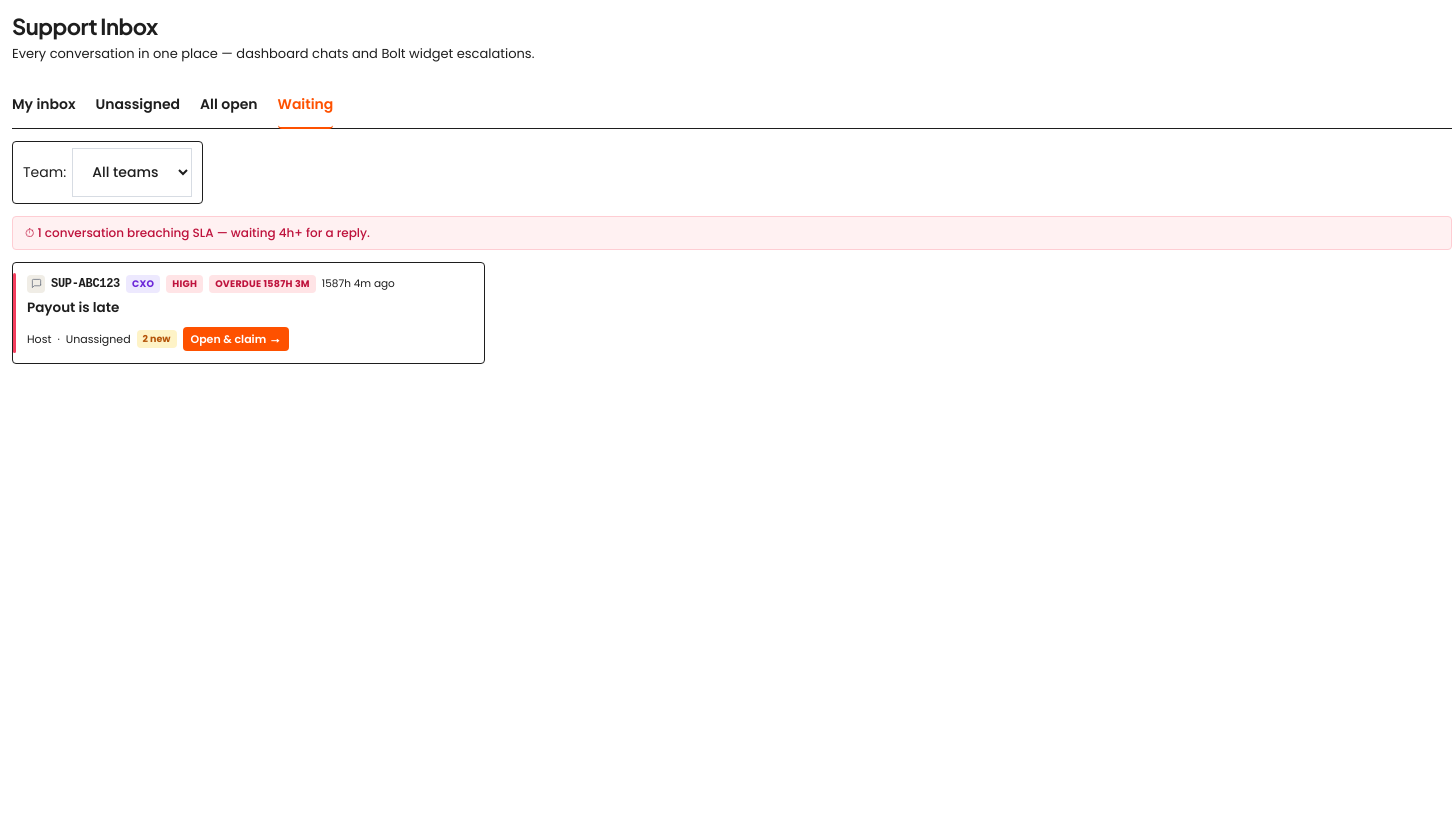
AdminSupportChat › opens a thread and shows its transcript
The width and height of the screenshot is (1452, 822).
Click the text "Payout is late".
click(73, 308)  # box [27,297,119,319]
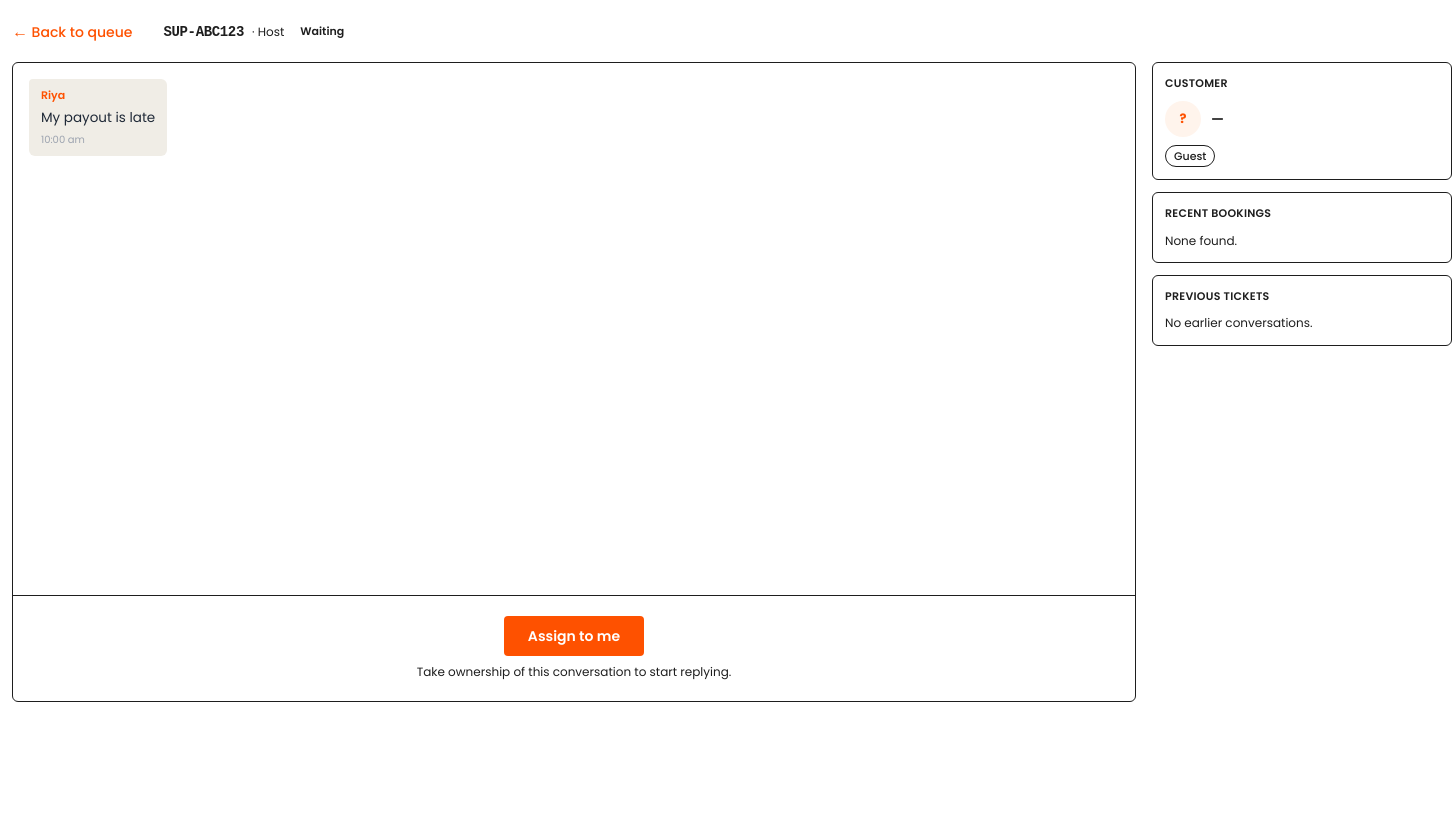
Check: the text "My payout is late" is shown, box [41,107,155,128]
Check: the text "Riya" is shown, box [41,87,65,103]
